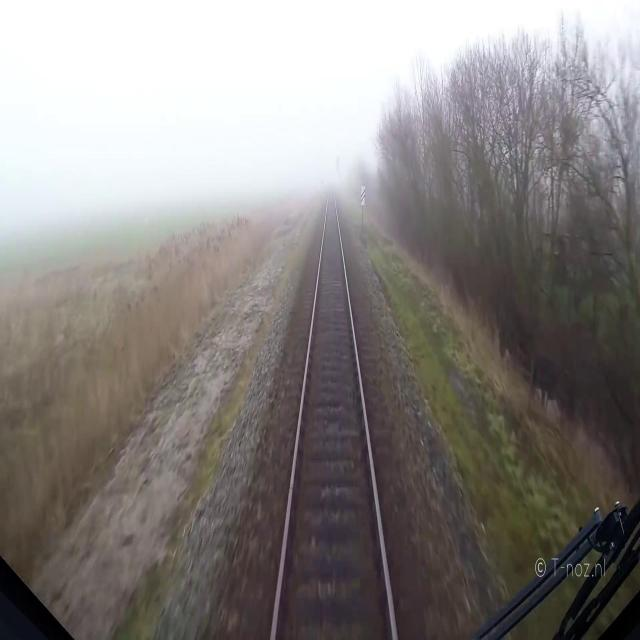rail-track: (276, 188, 392, 639)
